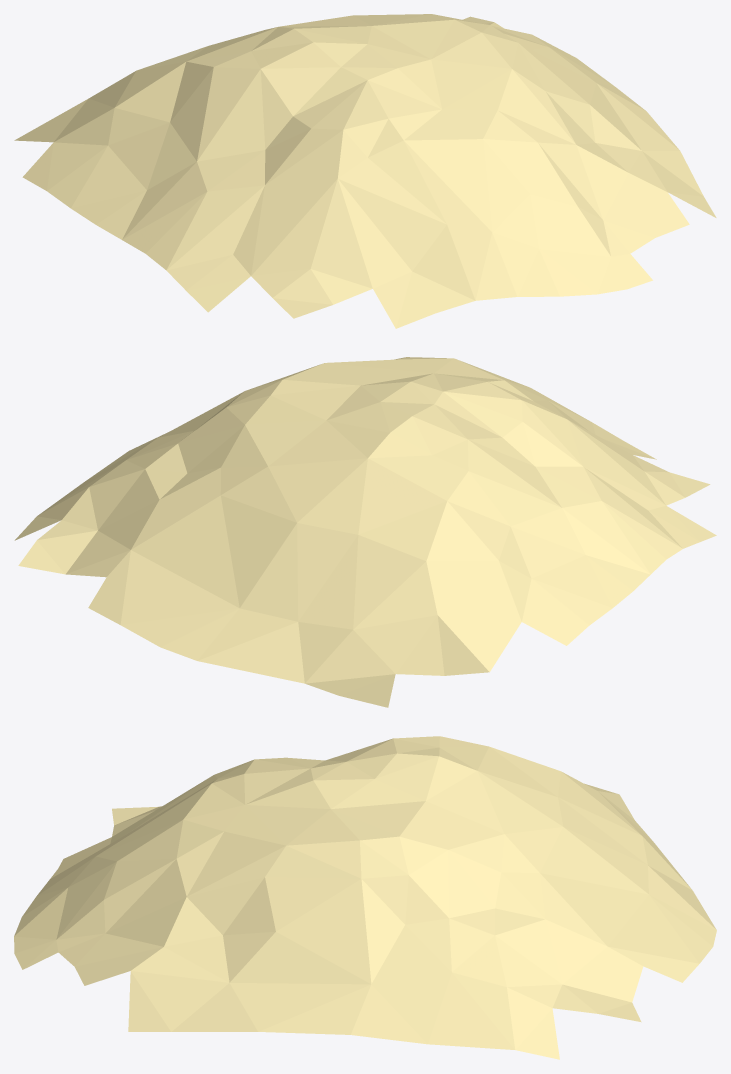
The model's file is Hill_s_02.fbx.
The picture shows the model from 3 angles, top to bottom: view 1: azimuth 30°, elevation 25°; view 2: azimuth 150°, elevation 25°; view 3: azimuth 270°, elevation 25°; orthographic projection. The views are drawn at different scales.
Parts seen in each view (by area): view 1: Hill_s_02; view 2: Hill_s_02; view 3: Hill_s_02.
Boxes of the visible parts, x1=… form: Hill_s_02: x1=14, y1=14, x2=716, y2=328; Hill_s_02: x1=14, y1=357, x2=716, y2=707; Hill_s_02: x1=14, y1=736, x2=716, y2=1059.
Size of the model in its own units: 2377 by 706 by 2626.
